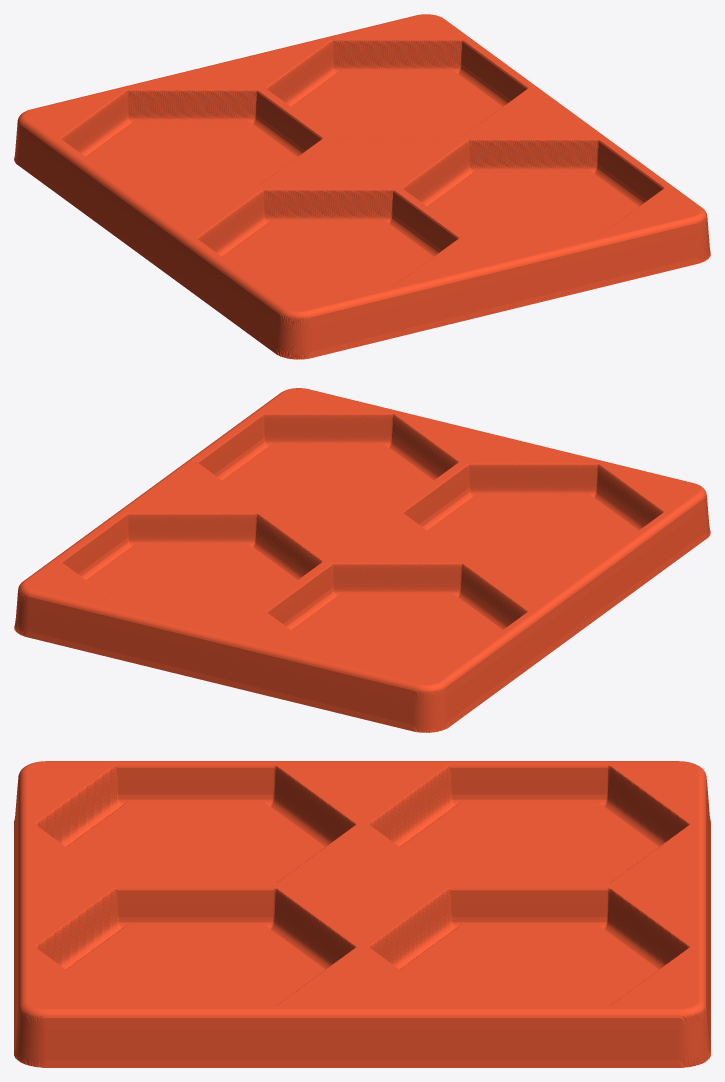
The model's file is mold.glb.
3 views of the same model, one above another, from view 1: azimuth 30°, elevation 25°; view 2: azimuth 150°, elevation 25°; view 3: azimuth 270°, elevation 25° (orthographic). The views are drawn at different scales.
Visible parts, largest first — view 1: geometry_0; view 2: geometry_0; view 3: geometry_0.
Boxes of the visible parts, bbox=[...] form: geometry_0: bbox=[14, 14, 710, 359]; geometry_0: bbox=[14, 388, 710, 732]; geometry_0: bbox=[14, 761, 710, 1067].
Bounding box in the file's own units: 0.1704 × 0.0165 × 0.1946.
